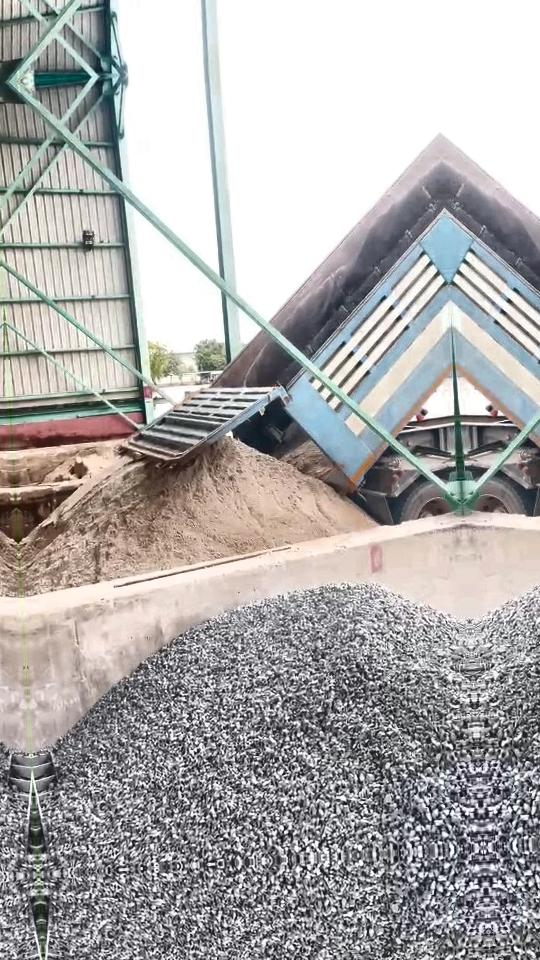gravel: (40, 585, 484, 872)
sand: (22, 438, 375, 594), (283, 440, 349, 493), (45, 452, 110, 482)
